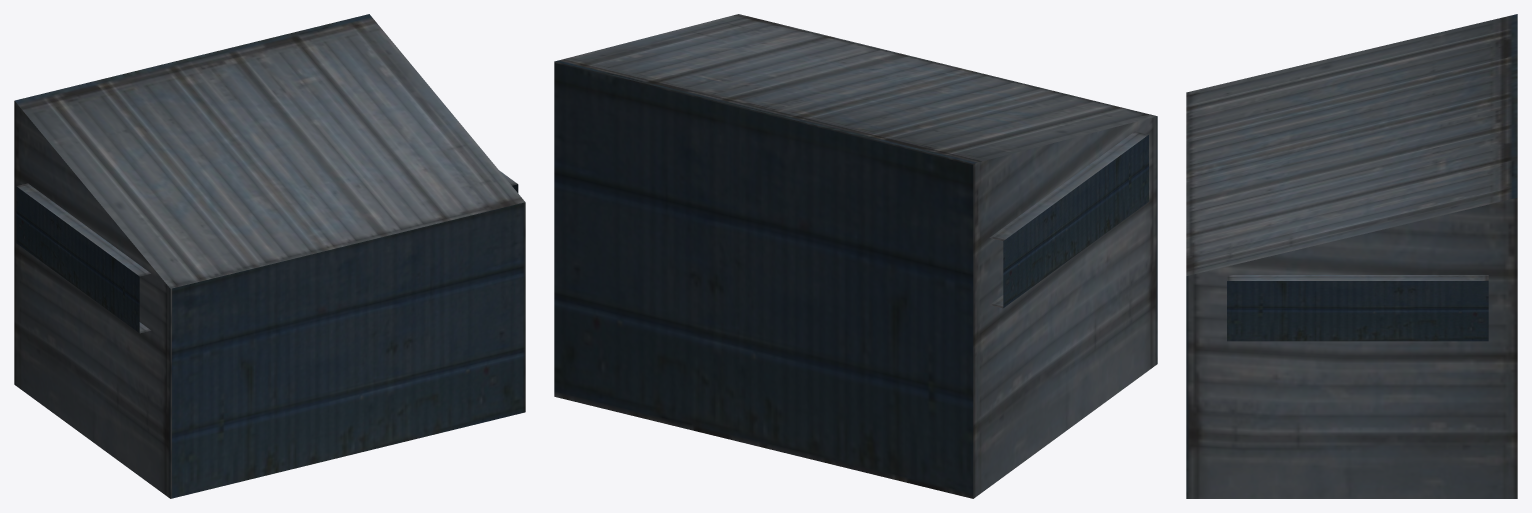
File: dumpster_2_v1.obj
3 views of the same model, side by side, from view 1: azimuth 30°, elevation 25°; view 2: azimuth 150°, elevation 25°; view 3: azimuth 270°, elevation 25° (orthographic). The views are drawn at different scales.
Parts seen in each view (by area): view 1: dumpster_2_v1; view 2: dumpster_2_v1; view 3: dumpster_2_v1.
Part boxes in pixels (<box>): dumpster_2_v1: <box>14,14,525,498</box>; dumpster_2_v1: <box>554,14,1157,498</box>; dumpster_2_v1: <box>1186,14,1517,498</box>.
Size of the model in its own units: 1.67 by 1.2 by 1.19.
Materials: 1 (1 with a texture image).
